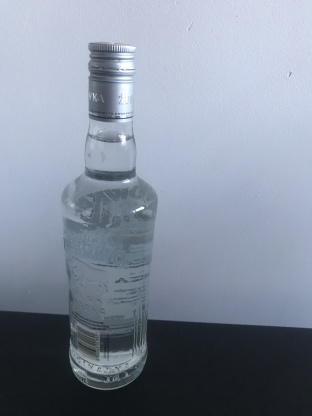nakretka: (85, 39, 137, 129)
